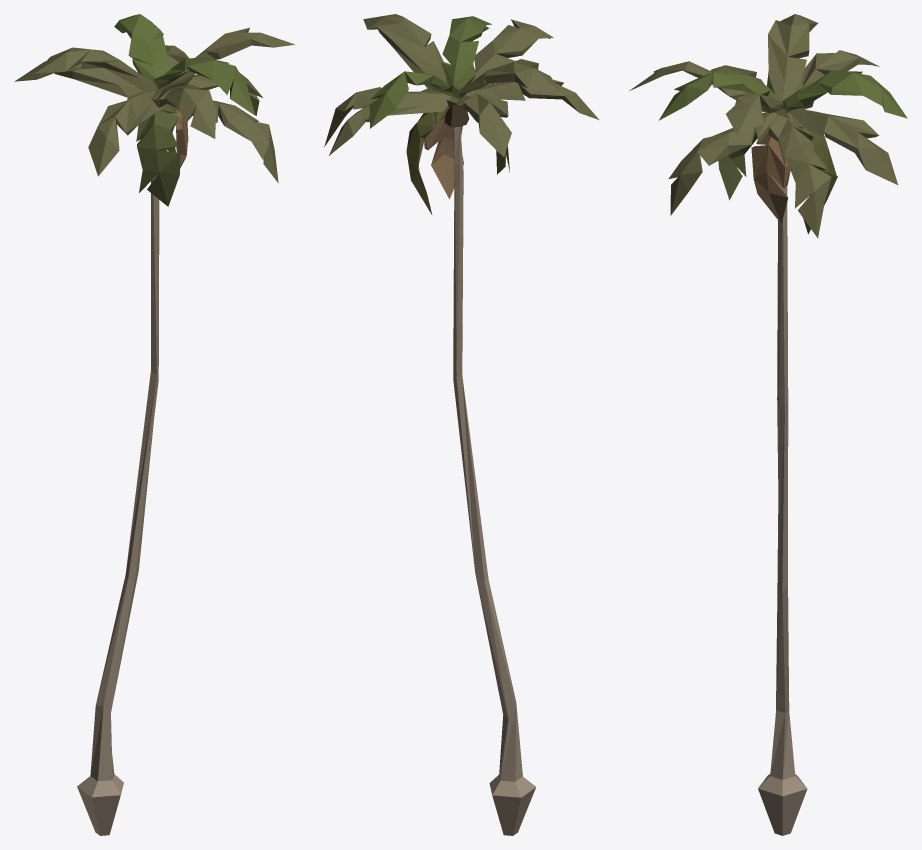
File: SM_Env_PalmTree_Tall_02.glb
3 views of the same model, side by side, from view 1: azimuth 30°, elevation 25°; view 2: azimuth 150°, elevation 25°; view 3: azimuth 270°, elevation 25° (orthographic). The views are drawn at different scales.
Visible parts, largest first — view 1: SM_Env_PalmTree_Tall_02_part00; view 2: SM_Env_PalmTree_Tall_02_part00; view 3: SM_Env_PalmTree_Tall_02_part00.
Part boxes in pixels (x1=…): SM_Env_PalmTree_Tall_02_part00: x1=14, y1=14, x2=294, y2=835; SM_Env_PalmTree_Tall_02_part00: x1=324, y1=14, x2=599, y2=835; SM_Env_PalmTree_Tall_02_part00: x1=629, y1=14, x2=907, y2=835.
Size of the model in its own units: 4.89 by 15.87 by 5.01.
Materials: 1 (1 with a texture image).
